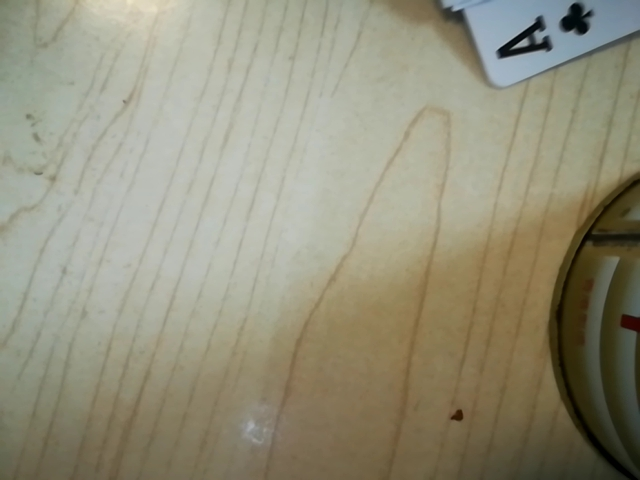mh a: (490, 2, 617, 73)
